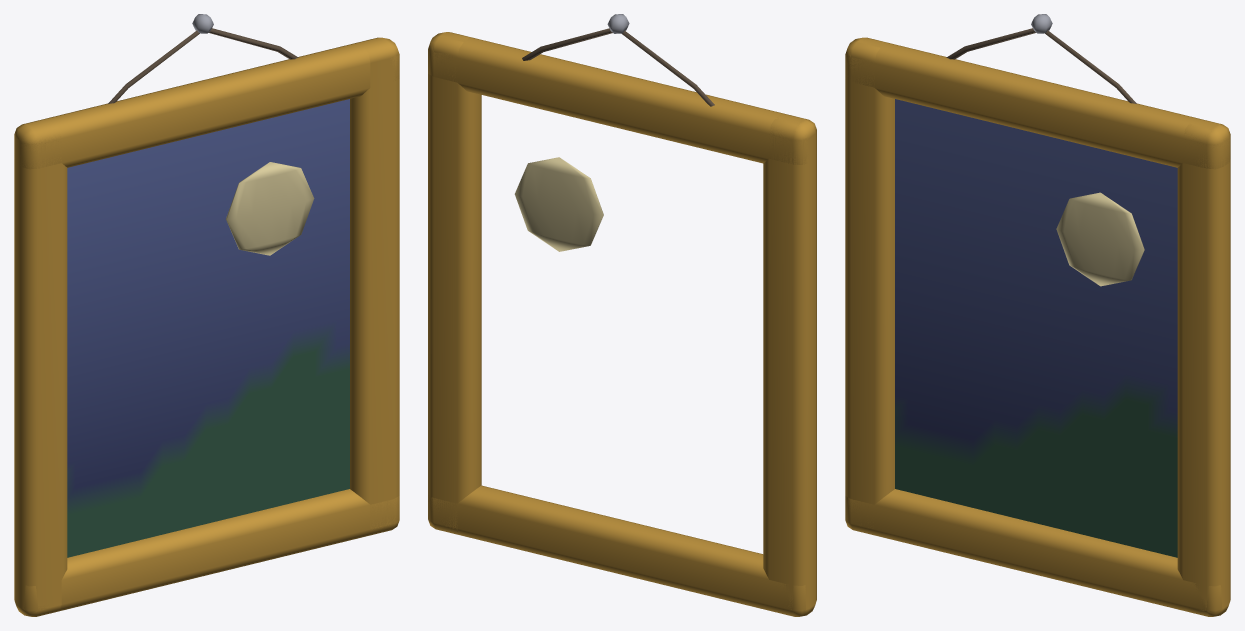
File: picture_frame.glb
3 renders of one model, left to right at view 1: azimuth 30°, elevation 25°; view 2: azimuth 150°, elevation 25°; view 3: azimuth 330°, elevation 25°, orthographic.
Visible parts, largest first — view 1: picture; view 2: picture; view 3: picture.
Boxes of the visible parts, bbox=[...] form: picture: bbox=[14, 28, 399, 616]; picture: bbox=[428, 28, 816, 616]; picture: bbox=[845, 28, 1230, 616].
Size of the model in its own units: 0.42 by 0.59 by 0.037.
